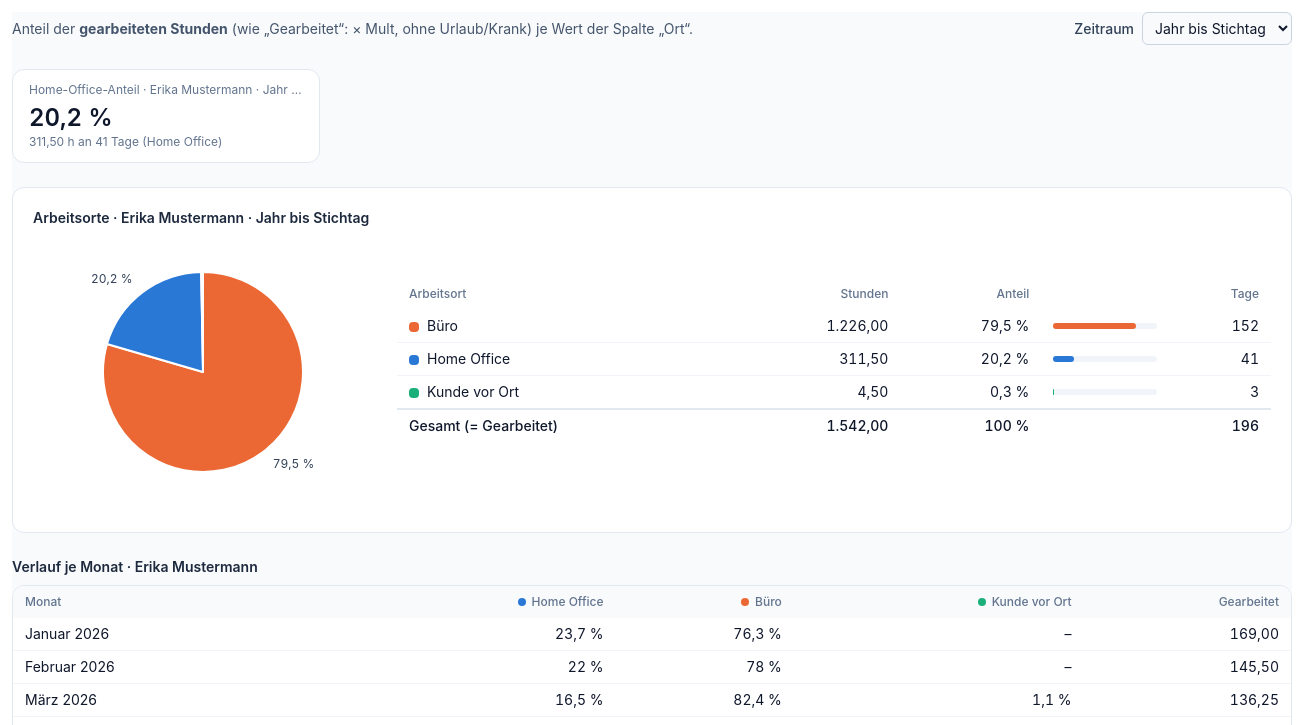
it: LocationView (Arbeitsort) › wechselt den Zeitraum über Auswahl und Monatsverlauf
Select "Oktober 2026" in the dropdown. click: (1217, 28)
box: [1142, 12, 1292, 45]
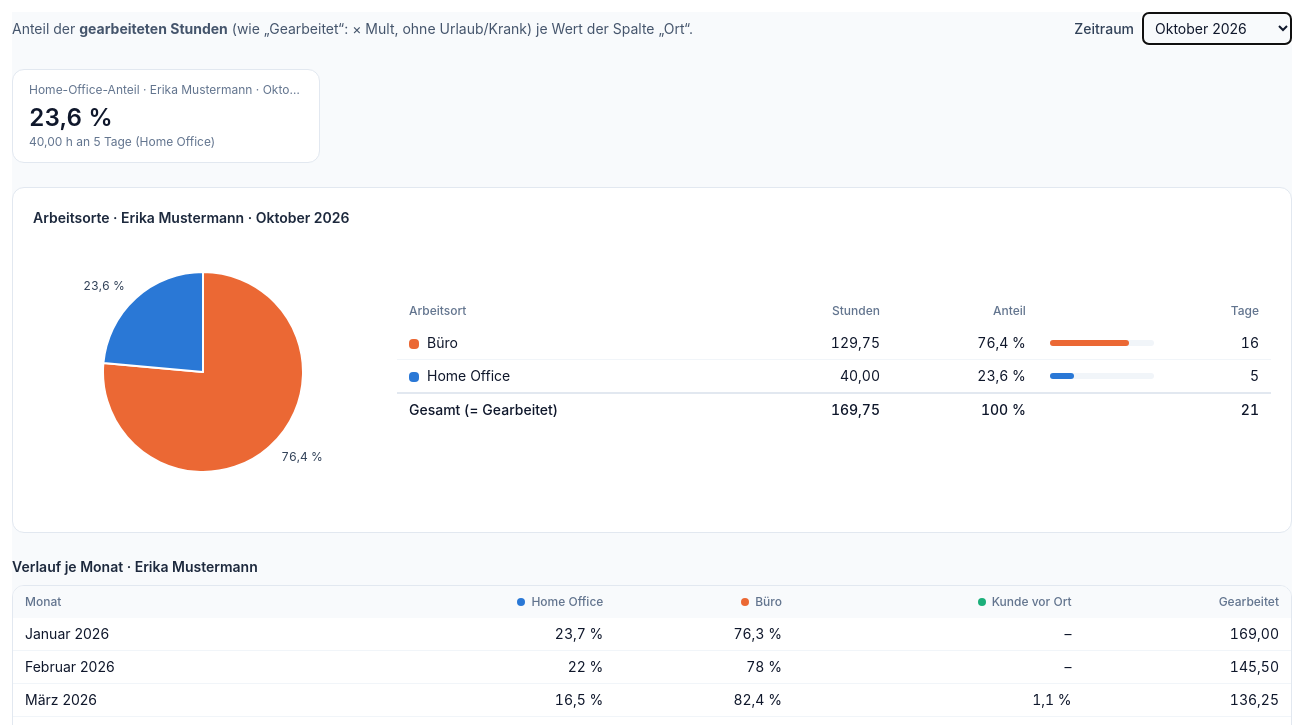
Now the heading "Arbeitsorte · Erika Mustermann · Oktober 2026" is shown, box [33, 208, 373, 228]
Click the text "März 2026". click: (61, 700)
box: [13, 684, 345, 716]
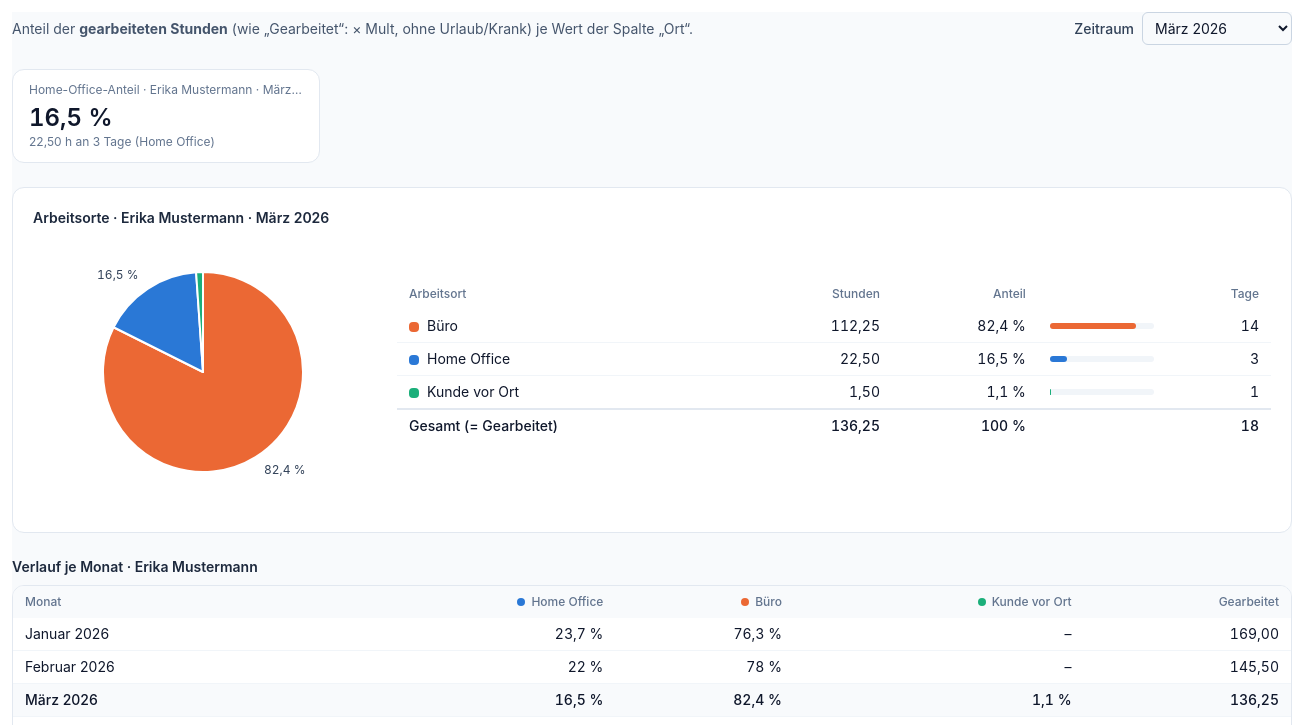
Now the heading "Arbeitsorte · Erika Mustermann · März 2026" is shown, box [33, 208, 373, 228]
